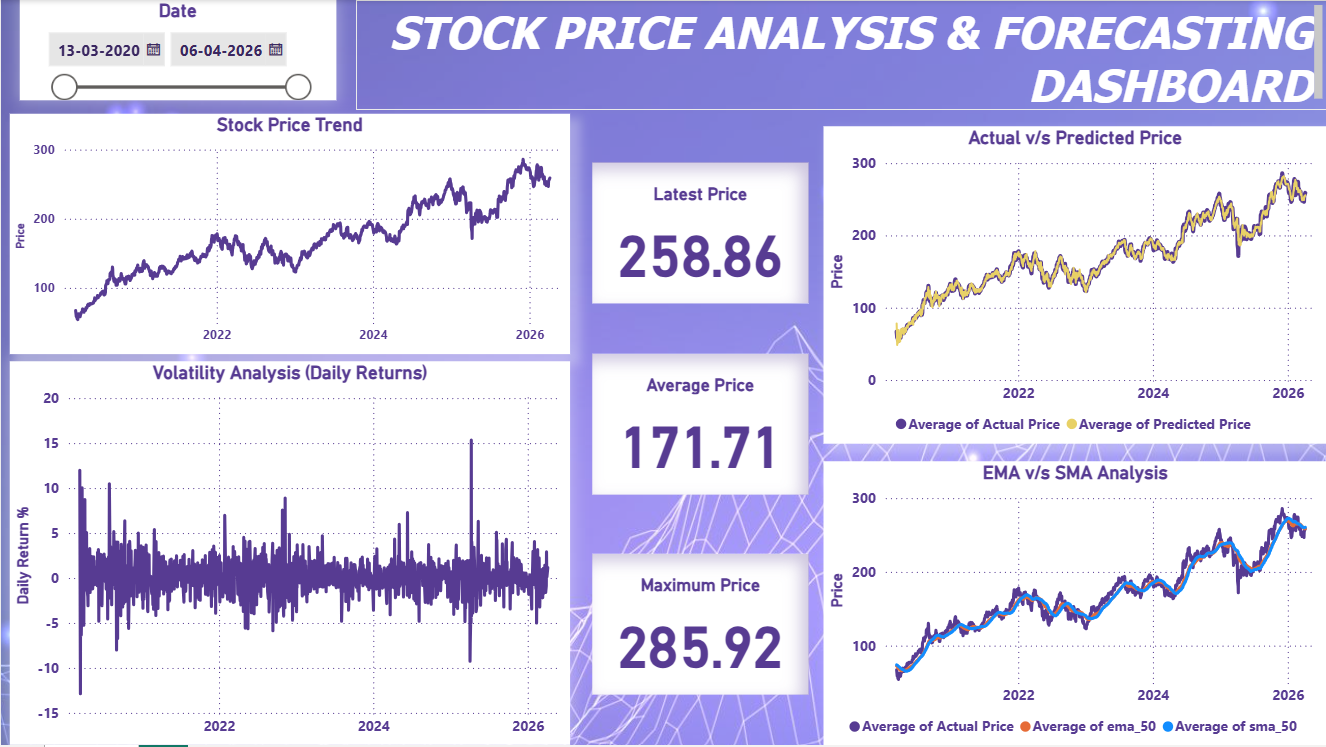

This screenshot's page, from the dashboard's own definition file:
{"tool":"powerbi","page":{"name":"Page 1","canvas":[1280,720],"ordinal":0},"visuals":[{"type":"card","title":"Average Price","fields":{"Values":["Avg(aapl_analysis.Close)"]},"box":[570.6,341.4,208.7,136.3],"z":0},{"type":"card","title":"Maximum Price","fields":{"Values":["Max(aapl_analysis.Close)"]},"box":[570.6,534.5,208.7,136.3],"z":1},{"type":"card","title":"Latest Price","fields":{"Values":["aapl_analysis.Latest Close"]},"box":[570.6,156.8,208.7,136.3],"z":2},{"type":"lineChart","title":"Stock Price Trend","fields":{"Y":["Avg(aapl_analysis.Close)"],"Category":["aapl_analysis.Date"]},"box":[8.4,109.8,540.5,231.6],"z":3},{"type":"lineChart","title":"EMA v/s SMA Analysis","fields":{"Y":["Avg(aapl_analysis.Close)","Avg(aapl_analysis.ema_50)","Avg(aapl_analysis.sma_50)"],"Category":["aapl_analysis.Date"]},"box":[793.8,445.2,486.2,275.1],"z":4},{"type":"lineChart","title":"Volatility Analysis (Daily Returns)","fields":{"Category":["aapl_analysis.Date"],"Y":["Avg(aapl_analysis.daily_return)"]},"box":[8.4,348.7,540.5,371.6],"z":5},{"type":"lineChart","title":"Actual v/s Predicted Price","fields":{"Y":["Avg(aapl_analysis.Close)","Avg(aapl_analysis.Predicted_Price)"],"Category":["aapl_analysis.Date"]},"box":[793.8,121.9,486.2,306.4],"z":6},{"type":"slicer","title":"Date","fields":{"Values":["aapl_analysis.Date"]},"box":[18.1,0,305.2,96.5],"z":7},{"type":"textbox","box":[342.6,0,937.4,106.2],"z":8}]}

Visuals, with their boxes in screenshot pixels (x1, y1, x2, y2), scaled from the page's 1280x720 canvas onto the 1326x747 screenshot:
"Average Price" card: Rect(591, 354, 807, 496)
"Maximum Price" card: Rect(591, 555, 807, 696)
"Latest Price" card: Rect(591, 163, 807, 304)
"Stock Price Trend" lineChart: Rect(9, 114, 569, 354)
"EMA v/s SMA Analysis" lineChart: Rect(822, 462, 1325, 746)
"Volatility Analysis (Daily Returns)" lineChart: Rect(9, 362, 569, 746)
"Actual v/s Predicted Price" lineChart: Rect(822, 126, 1325, 444)
"Date" slicer: Rect(19, 0, 335, 100)
textbox: Rect(355, 0, 1325, 110)
